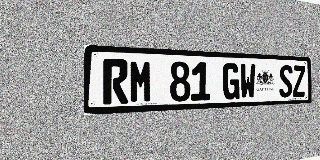1: (191, 62, 210, 101)
8: (170, 61, 190, 102)
G: (223, 63, 239, 100)
M: (129, 60, 153, 103)
R: (103, 59, 128, 104)
S: (279, 65, 292, 98)
W: (240, 63, 256, 99)
Z: (293, 65, 305, 97)
